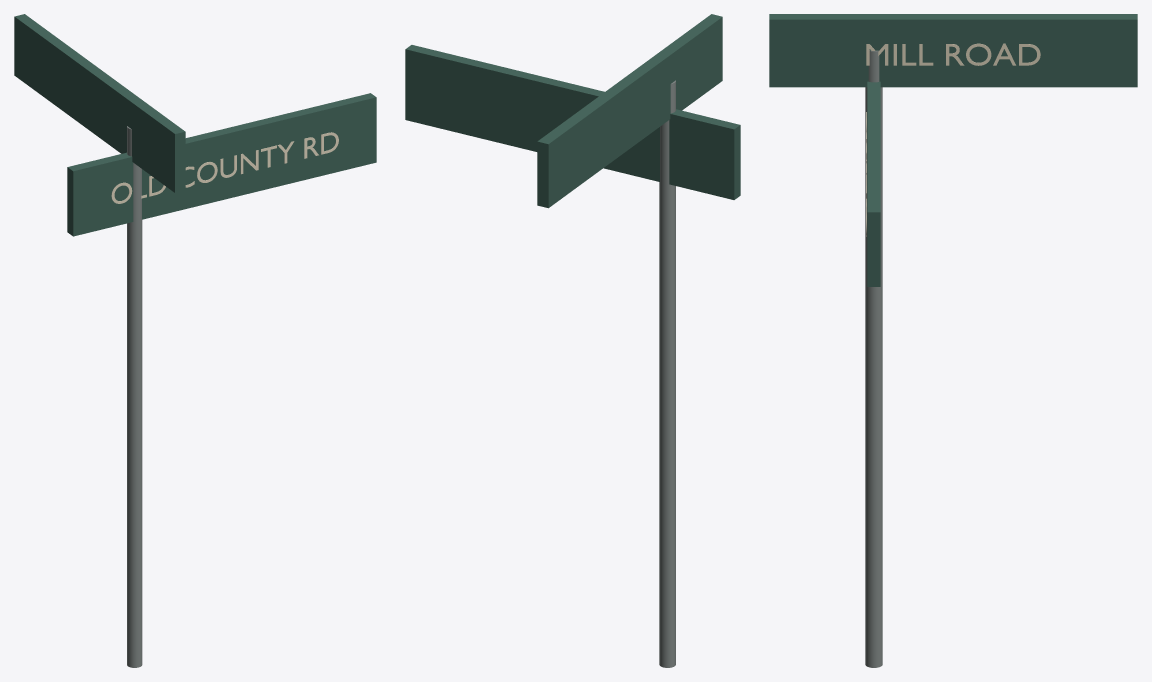
File: county_road_signpost.glb
3 renders of one model, left to right at view 1: azimuth 30°, elevation 25°; view 2: azimuth 150°, elevation 25°; view 3: azimuth 270°, elevation 25°, orthographic. The views are drawn at different scales.
Visible parts, largest first — view 1: Directional sign, Cross street plate, Signpost, OLD COUNTY RD; view 2: Directional sign, Cross street plate, Signpost; view 3: Cross street plate, Signpost, Directional sign, MILL ROAD.
Part boxes in pixels (<box>): Directional sign: <box>67,93,376,236</box>; Cross street plate: <box>14,14,185,192</box>; Signpost: <box>127,126,142,667</box>; OLD COUNTY RD: <box>111,132,338,203</box>; Directional sign: <box>405,45,740,199</box>; Cross street plate: <box>537,14,722,208</box>; Signpost: <box>659,80,675,667</box>; Cross street plate: <box>769,14,1137,87</box>; Signpost: <box>865,50,882,667</box>; Directional sign: <box>867,81,880,286</box>; MILL ROAD: <box>866,43,1040,65</box>.
Bounding box in the file's own units: 1.58 × 2.81 × 1.45.
